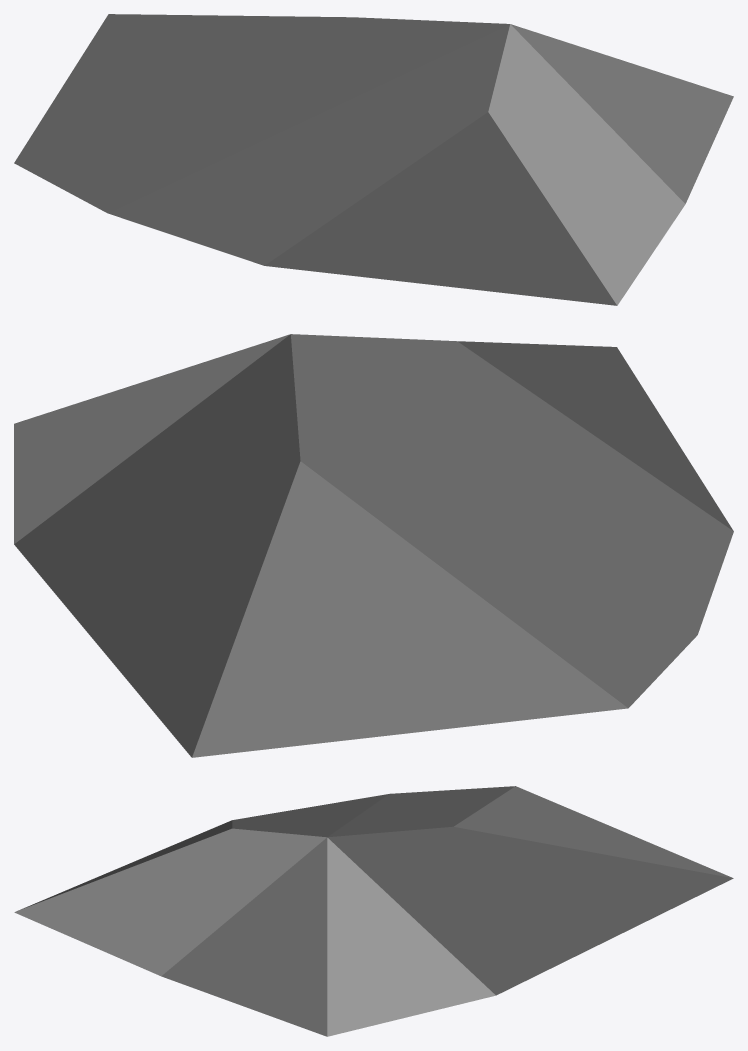
The model's file is steen 3.fbx.
The picture shows the model from 3 angles, top to bottom: view 1: azimuth 30°, elevation 25°; view 2: azimuth 150°, elevation 25°; view 3: azimuth 270°, elevation 25°; orthographic projection. The views are drawn at different scales.
Parts seen in each view (by area): view 1: pPyramid2; view 2: pPyramid2; view 3: pPyramid2.
Boxes of the visible parts, x1=… form: pPyramid2: x1=14, y1=14, x2=733, y2=305; pPyramid2: x1=14, y1=334, x2=733, y2=757; pPyramid2: x1=14, y1=786, x2=733, y2=1036.
Size of the model in its own units: 13.1 by 2.62 by 15.9.
1 material, 1 textured.
